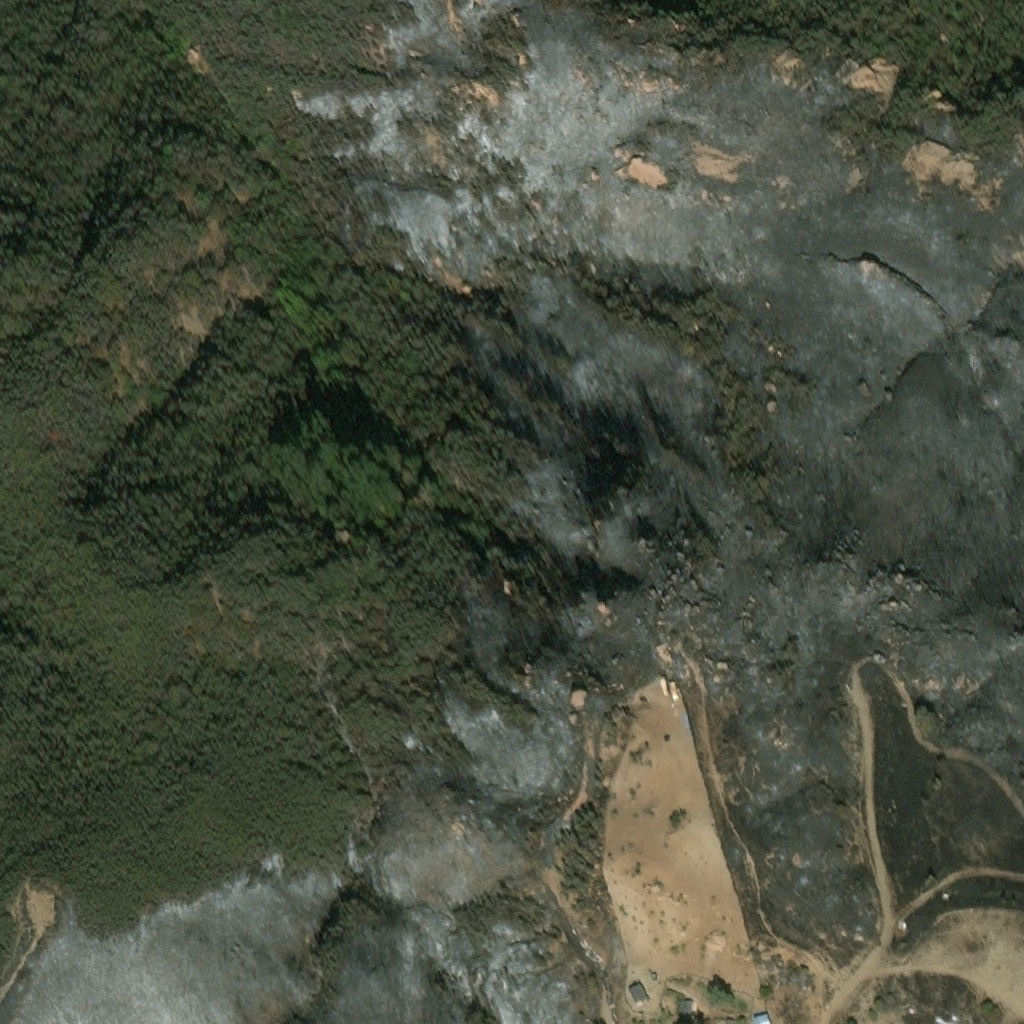0 no-damage: (655, 673, 678, 696), (630, 986, 648, 1006), (677, 996, 690, 1018), (750, 1011, 769, 1023), (724, 1015, 733, 1023), (651, 972, 656, 977)
4 un-classified: (579, 938, 594, 956), (605, 993, 616, 1009)
